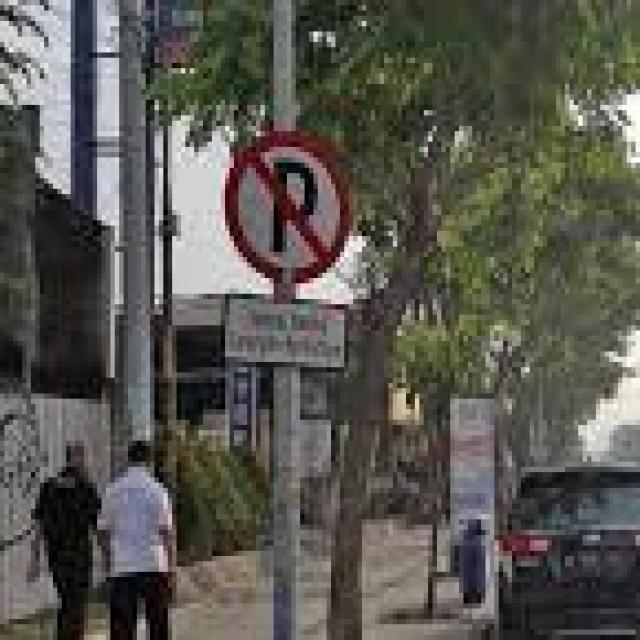traffic sign: (225, 131, 348, 294)
